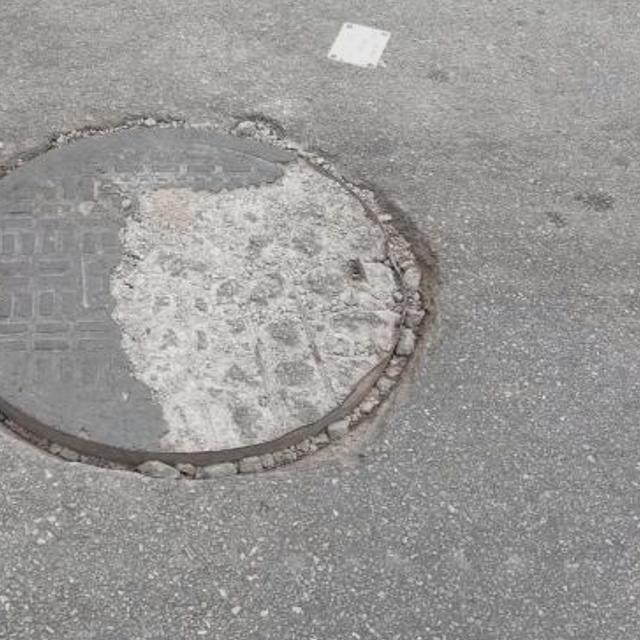circle: (0, 92, 463, 487)
